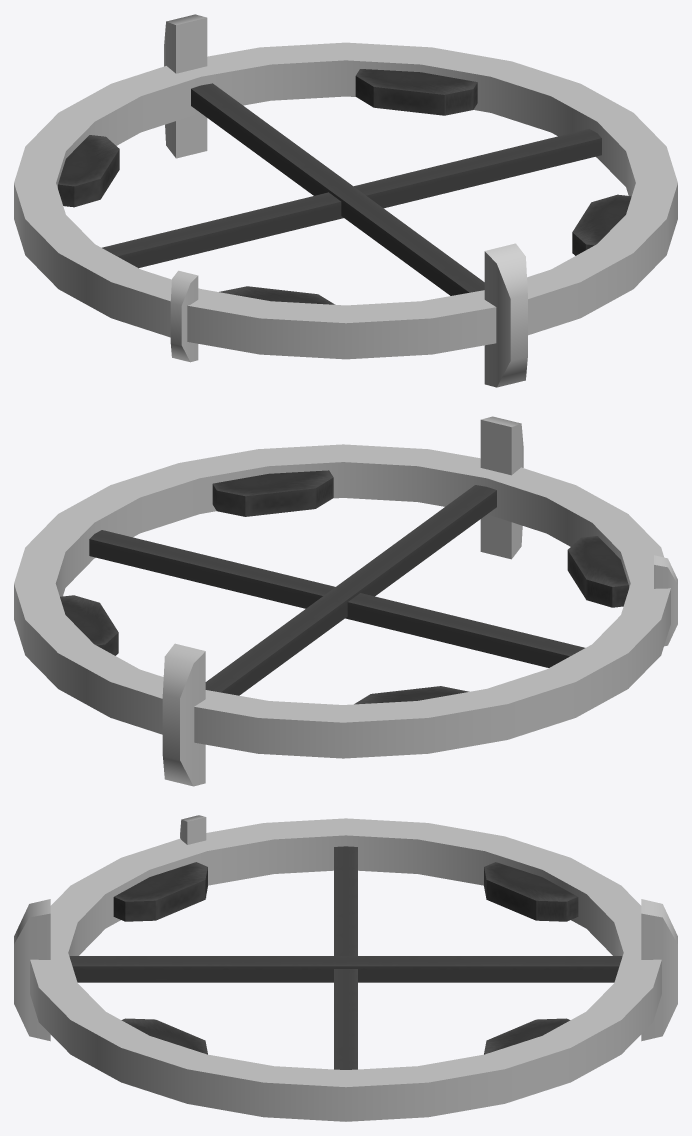
File: bluedog_125mDecoupler.dae
3 views of the same model, one above another, from view 1: azimuth 30°, elevation 25°; view 2: azimuth 150°, elevation 25°; view 3: azimuth 270°, elevation 25° (orthographic). The views are drawn at different scales.
Parts seen in each view (by area): view 1: Decoupler125m1, DecouplerStrut4, FairingFin7; view 2: Decoupler125m1, DecouplerStrut4, FairingFin7; view 3: Decoupler125m1, DecouplerStrut4, FairingFin7.
Boxes of the visible parts, left/top/right/bottom form: Decoupler125m1: left=14, top=14, right=677, bottom=387; DecouplerStrut4: left=102, top=83, right=601, bottom=295; FairingFin7: left=58, top=69, right=631, bottom=304; Decoupler125m1: left=14, top=416, right=677, bottom=786; DecouplerStrut4: left=89, top=485, right=584, bottom=695; FairingFin7: left=60, top=470, right=628, bottom=704; Decoupler125m1: left=14, top=815, right=677, bottom=1121; DecouplerStrut4: left=69, top=846, right=622, bottom=1069; FairingFin7: left=113, top=862, right=578, bottom=1054.
Size of the model in its own units: 1.25 by 0.2769 by 1.3.
